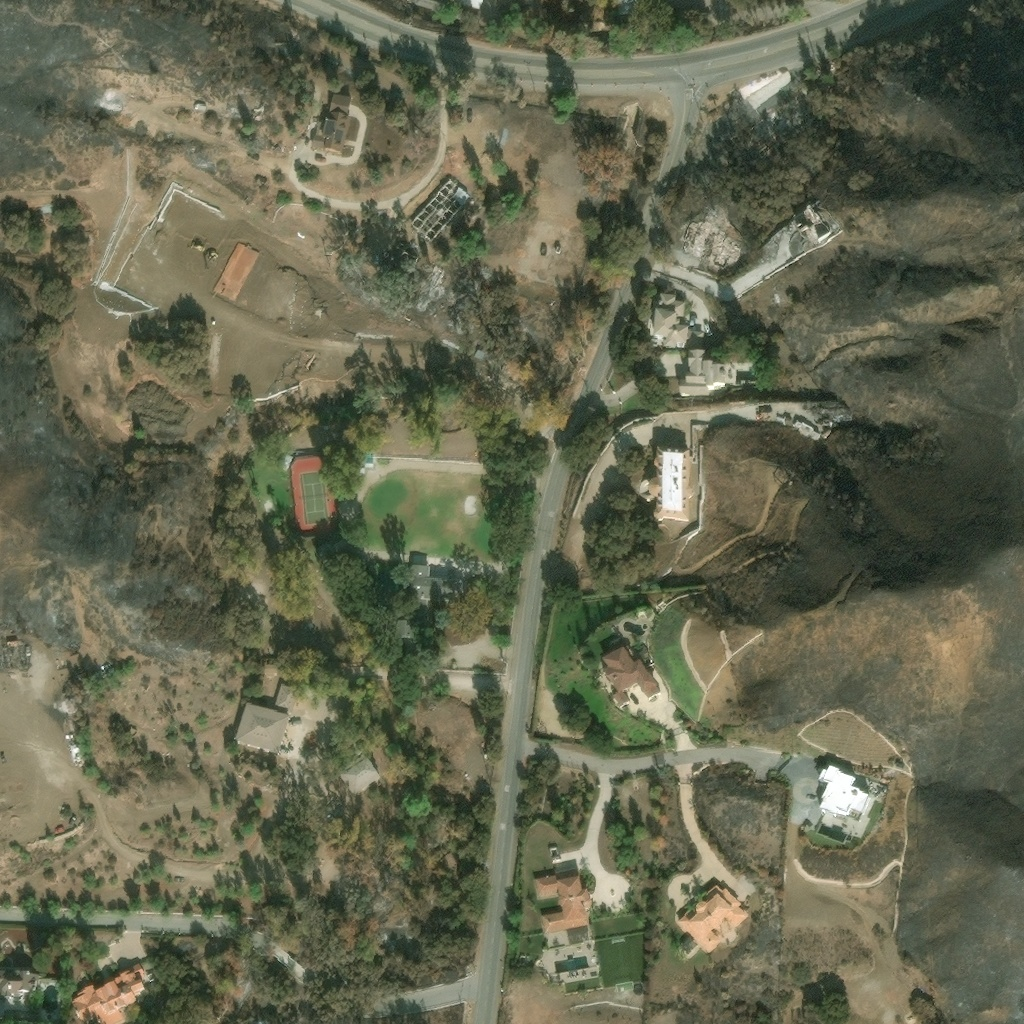0 no-damage: (676, 883, 750, 956), (396, 563, 460, 644), (72, 962, 146, 1023), (815, 765, 876, 837), (601, 641, 663, 707), (533, 867, 593, 934), (641, 446, 691, 521), (236, 702, 288, 756), (311, 94, 354, 159), (655, 295, 706, 347), (215, 243, 260, 301), (679, 350, 727, 395), (336, 754, 380, 797), (406, 0, 482, 24), (0, 968, 40, 1000), (272, 681, 296, 714), (618, 0, 640, 15), (457, 0, 486, 10), (871, 786, 884, 800), (475, 350, 486, 361), (551, 854, 560, 861)
2 major-damage: (791, 203, 834, 243)
3 destroyed: (410, 177, 472, 242), (682, 214, 743, 269), (748, 100, 816, 143), (0, 641, 29, 671), (227, 93, 266, 112), (776, 471, 795, 491), (829, 220, 841, 233)
